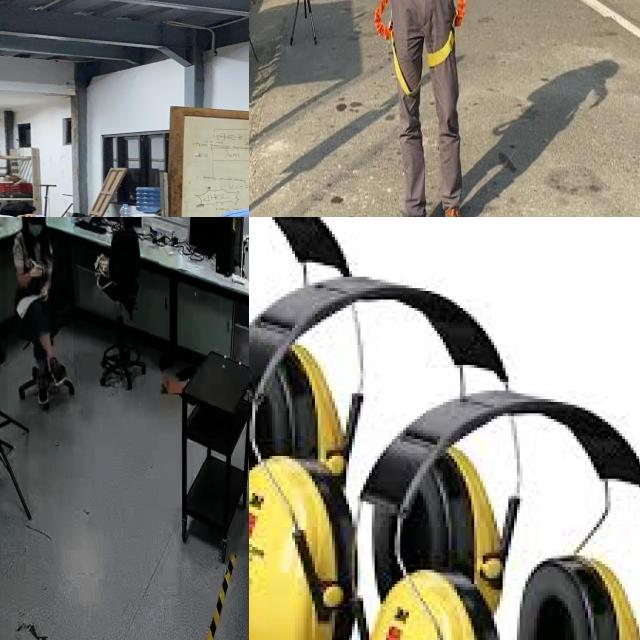Ear-protection: (249, 444, 360, 640), (406, 442, 503, 610), (249, 322, 346, 458), (352, 561, 500, 640), (511, 552, 640, 640)
Harness: (374, 0, 421, 97)
face_mask: (25, 217, 43, 241)
hand_noglove: (40, 282, 50, 302), (30, 261, 42, 277)
person: (7, 217, 74, 415)
shoes: (34, 369, 52, 410), (47, 354, 67, 388)
